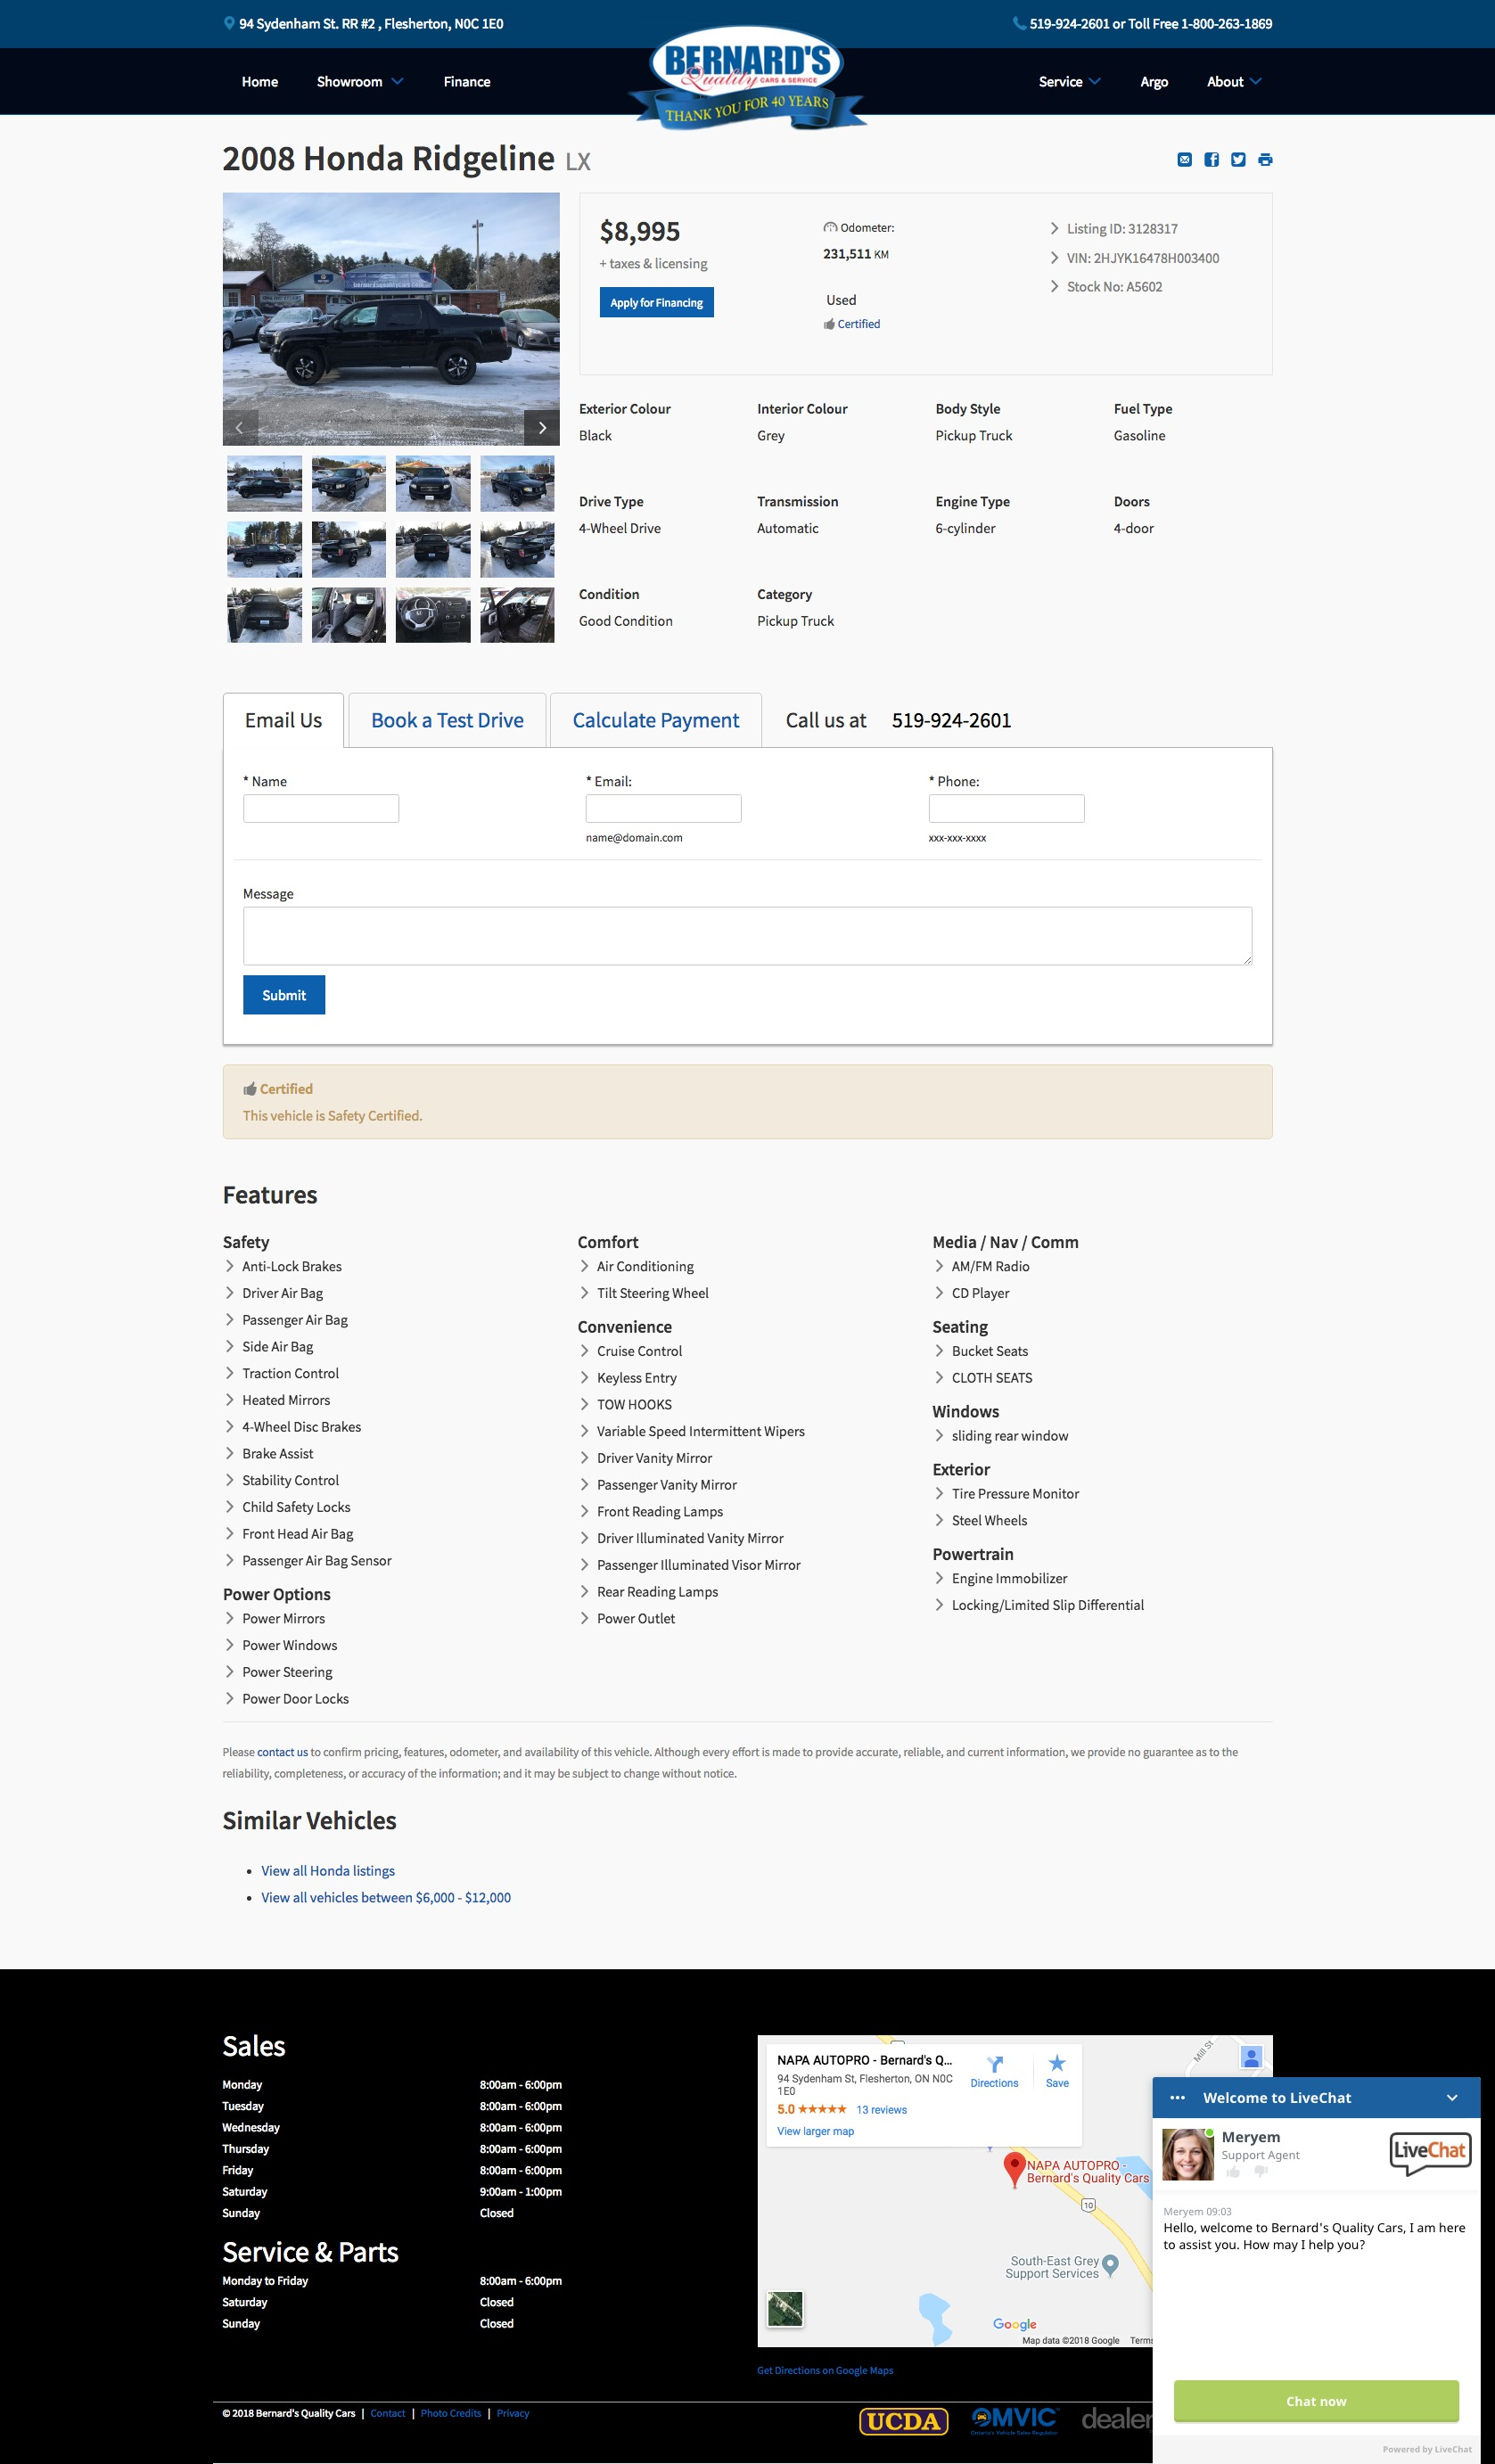car: (525, 412, 558, 445)
